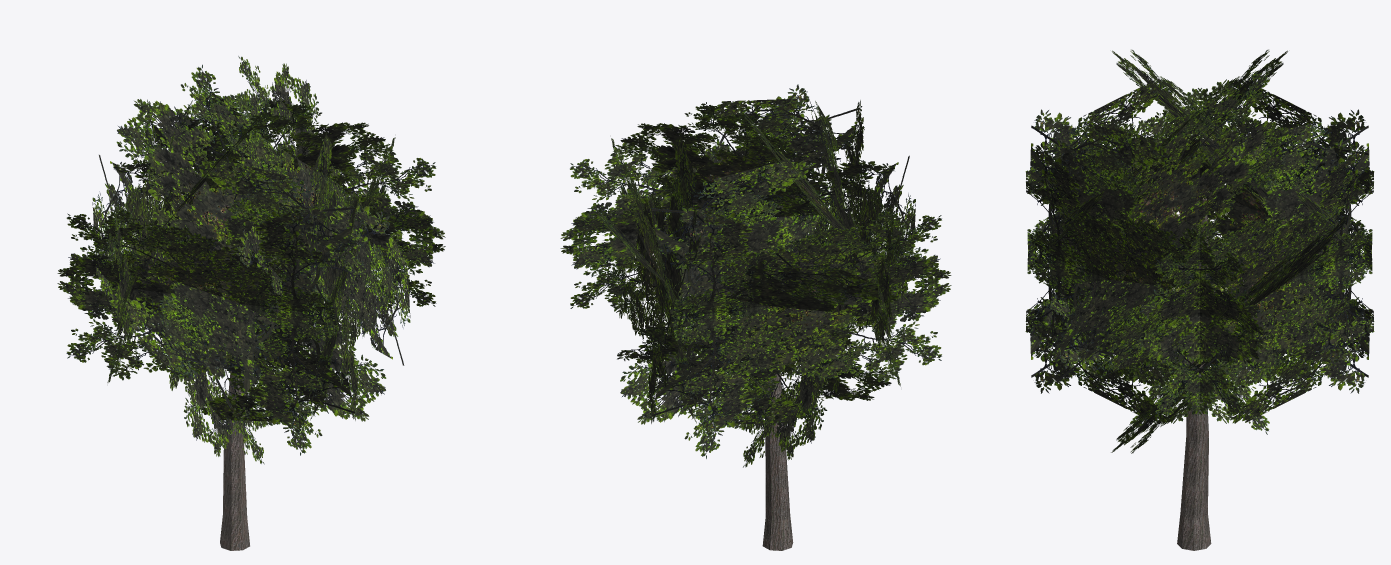
Rendered from Pohon 1.fbx.
3 views of the same model, side by side, from view 1: azimuth 30°, elevation 25°; view 2: azimuth 150°, elevation 25°; view 3: azimuth 270°, elevation 25° (orthographic). The views are drawn at different scales.
Parts seen in each view (by area): view 1: Plane, Cylinder; view 2: Plane, Cylinder; view 3: Plane, Cylinder.
Part boxes in pixels (x1,y1,x2,y2): Plane: (57,56,445,464); Cylinder: (220,215,258,550); Plane: (560,84,951,467); Cylinder: (742,213,793,550); Plane: (1025,49,1374,453); Cylinder: (1177,198,1211,550).
Size of the model in its own units: 635 by 775 by 462.
